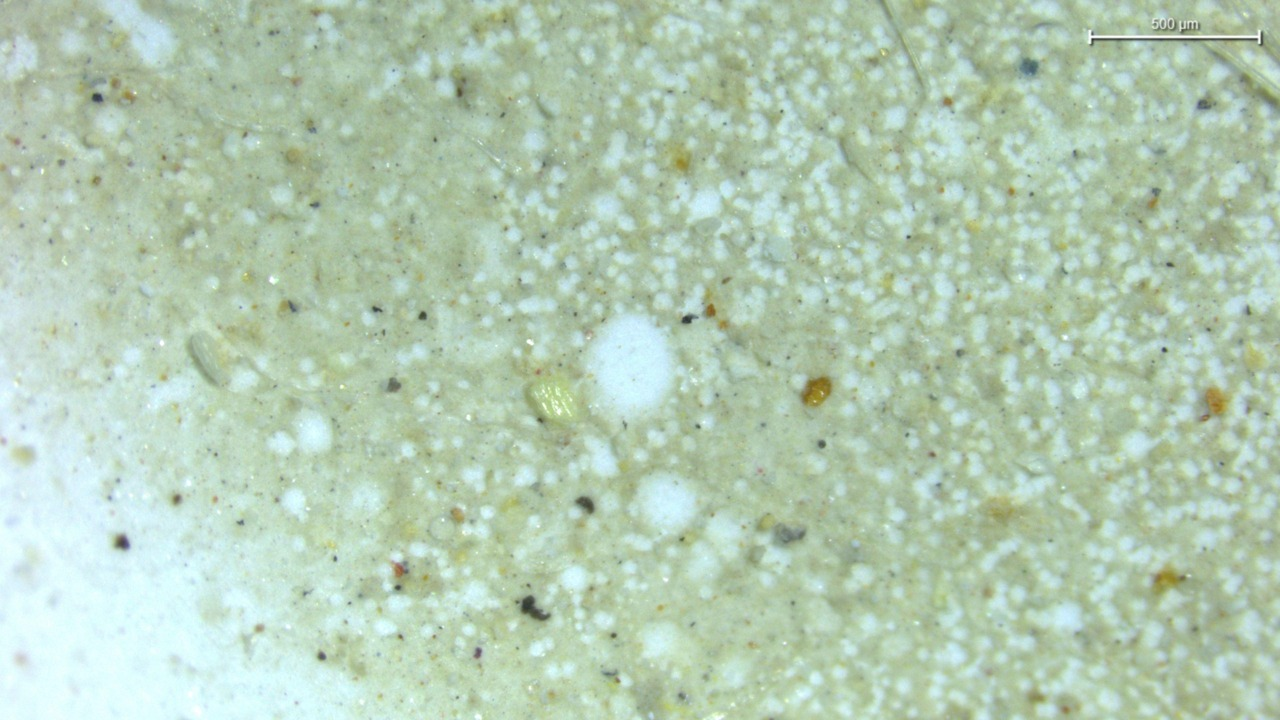microplastic_fragment: (525, 377, 588, 426), (187, 334, 225, 386)
